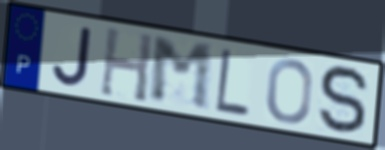H: (97, 24, 156, 105)
J: (50, 24, 95, 89)
L: (214, 45, 252, 119)
M: (149, 36, 215, 114)
O: (264, 56, 315, 125)
S: (318, 64, 371, 137)
